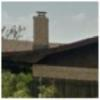chimneys: (32, 9, 50, 49)
